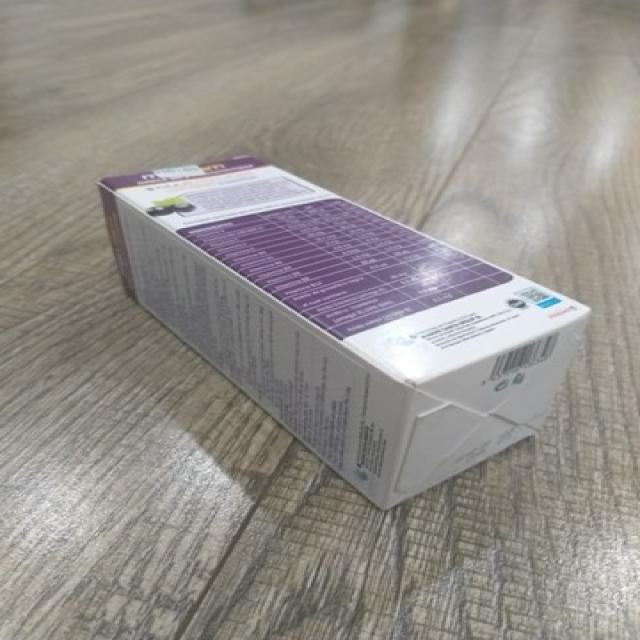PaperCardboard: (91, 155, 593, 508)
